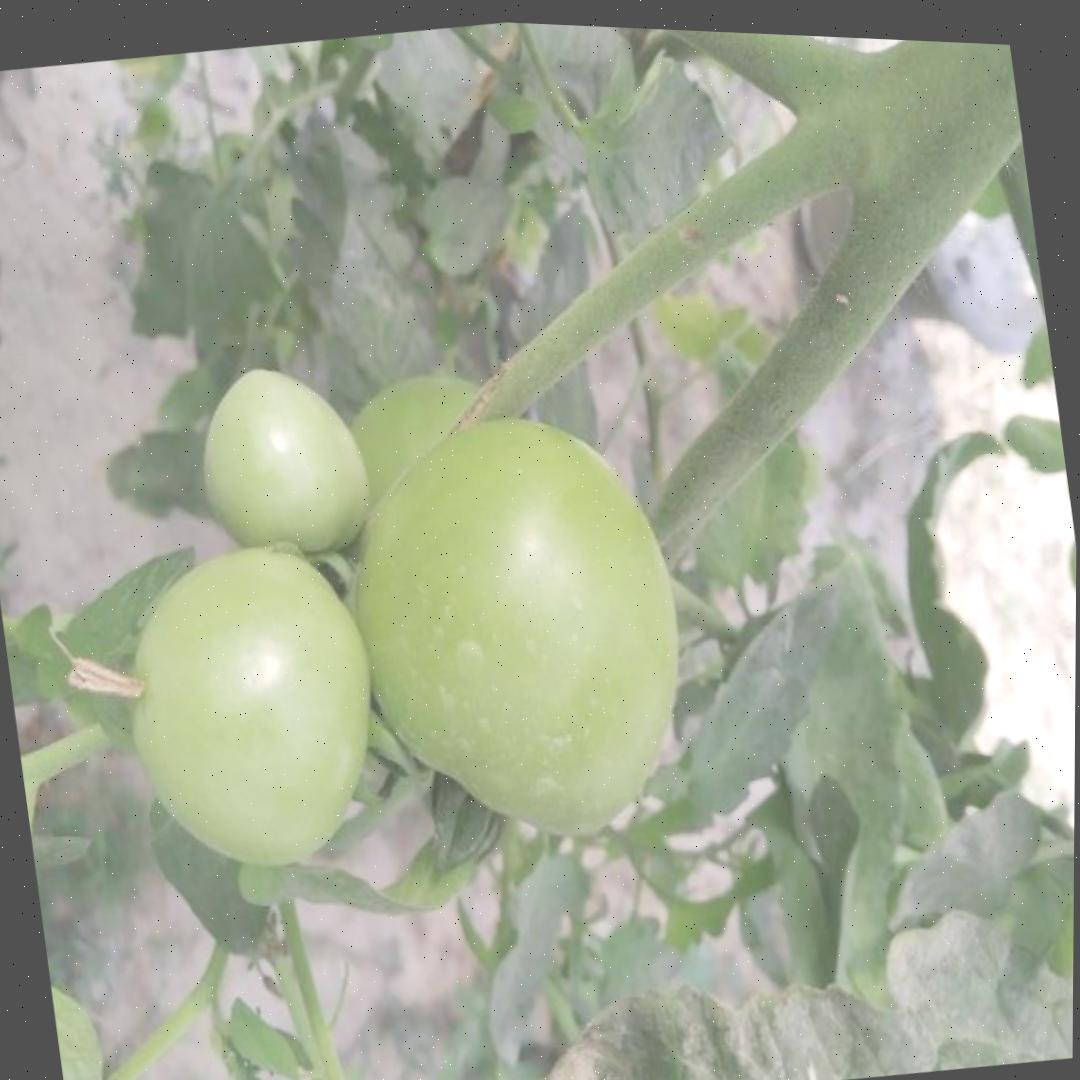mentah: (325, 384, 709, 874), (105, 529, 397, 891), (187, 350, 381, 574)
